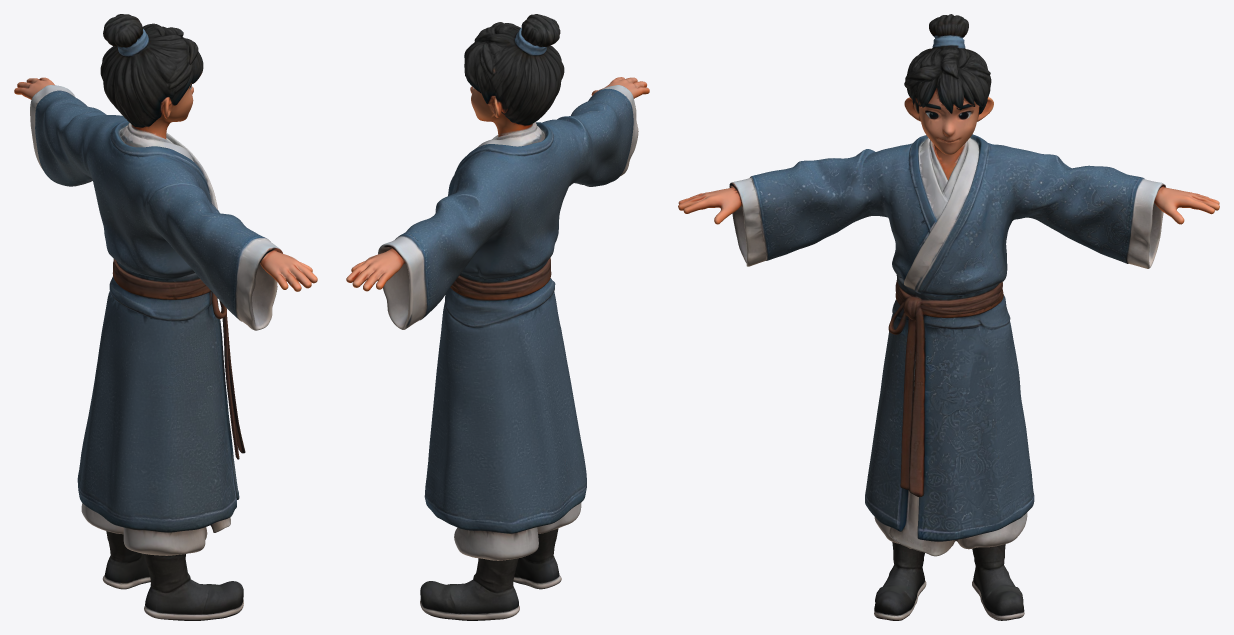
File: fang_zheng.glb
The picture shows the model from 3 angles, left to right: view 1: azimuth 30°, elevation 25°; view 2: azimuth 150°, elevation 25°; view 3: azimuth 270°, elevation 25°; orthographic projection. The views are drawn at different scales.
Parts seen in each view (by area): view 1: tripo_node_7e76e639-dd13-486c-af60-9a2ac89433ac; view 2: tripo_node_7e76e639-dd13-486c-af60-9a2ac89433ac; view 3: tripo_node_7e76e639-dd13-486c-af60-9a2ac89433ac.
Part boxes in pixels (<box>): tripo_node_7e76e639-dd13-486c-af60-9a2ac89433ac: <box>14,14,317,620</box>; tripo_node_7e76e639-dd13-486c-af60-9a2ac89433ac: <box>346,14,649,620</box>; tripo_node_7e76e639-dd13-486c-af60-9a2ac89433ac: <box>678,14,1219,620</box>.
Bounding box in the file's own units: 0.416 × 1.75 × 1.51.
Materials: 1 (1 with a texture image).
